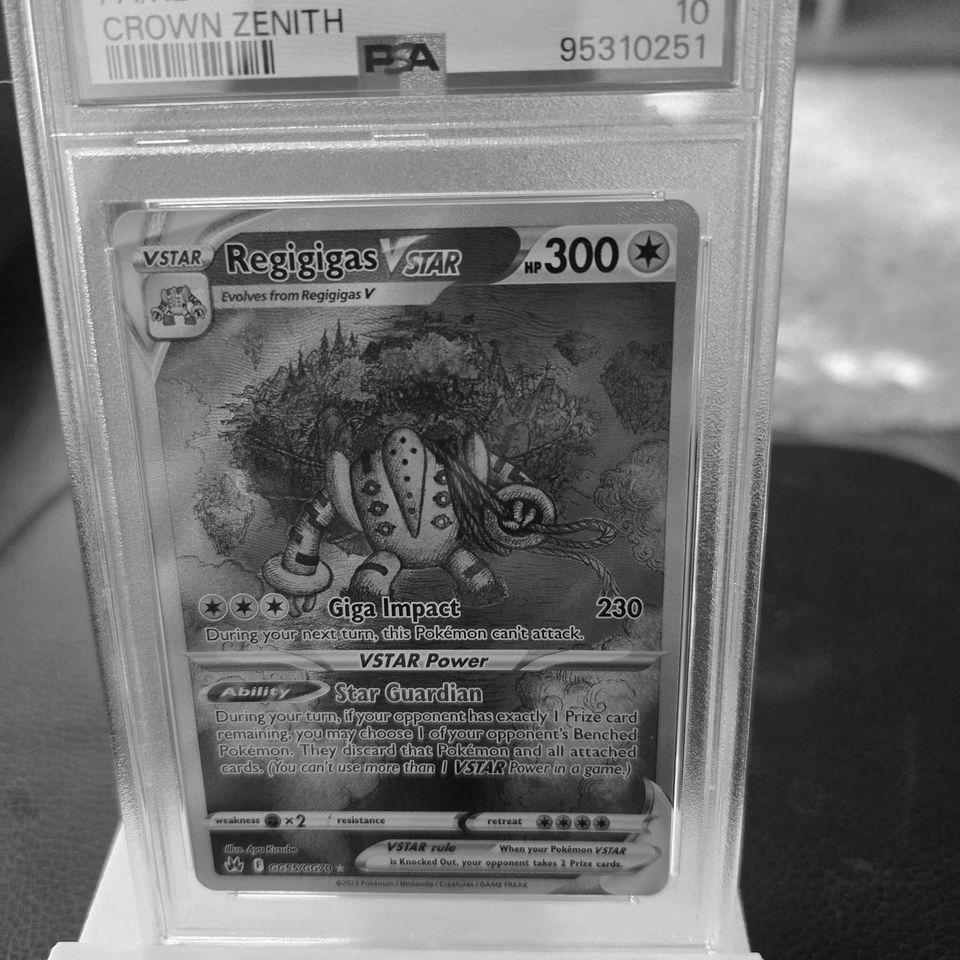card: (110, 197, 705, 898)
